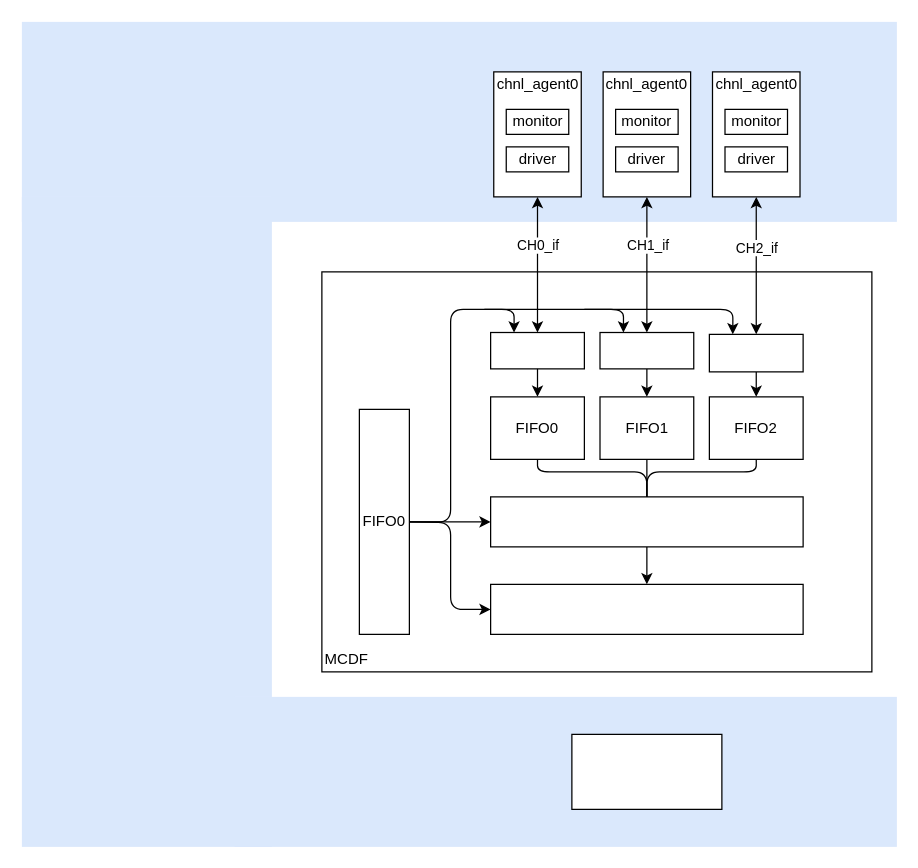
Image size: 918x868. Some labels were removed from this diagram. The shapes that lost their labels are listed below. From the top down, each one's box as (x1, y1, x2, y2) in pixels, then its label:
(489, 331, 584, 369): slave0
(599, 331, 694, 369): slave1
(708, 333, 803, 372): slave2
(489, 496, 803, 547): Arbiter
(489, 583, 803, 634): Formatter
